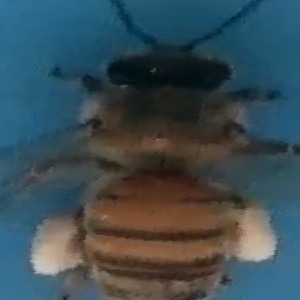bee: (25, 1, 293, 300)
